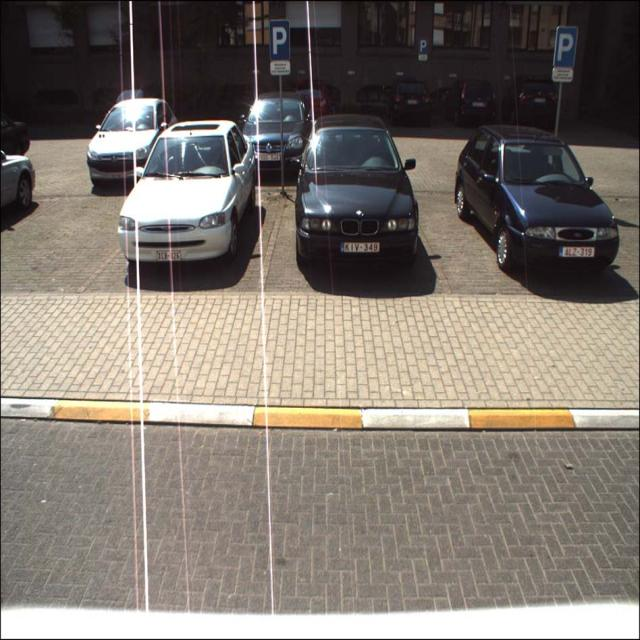park: (554, 26, 576, 66), (269, 19, 289, 62), (418, 38, 428, 54)
